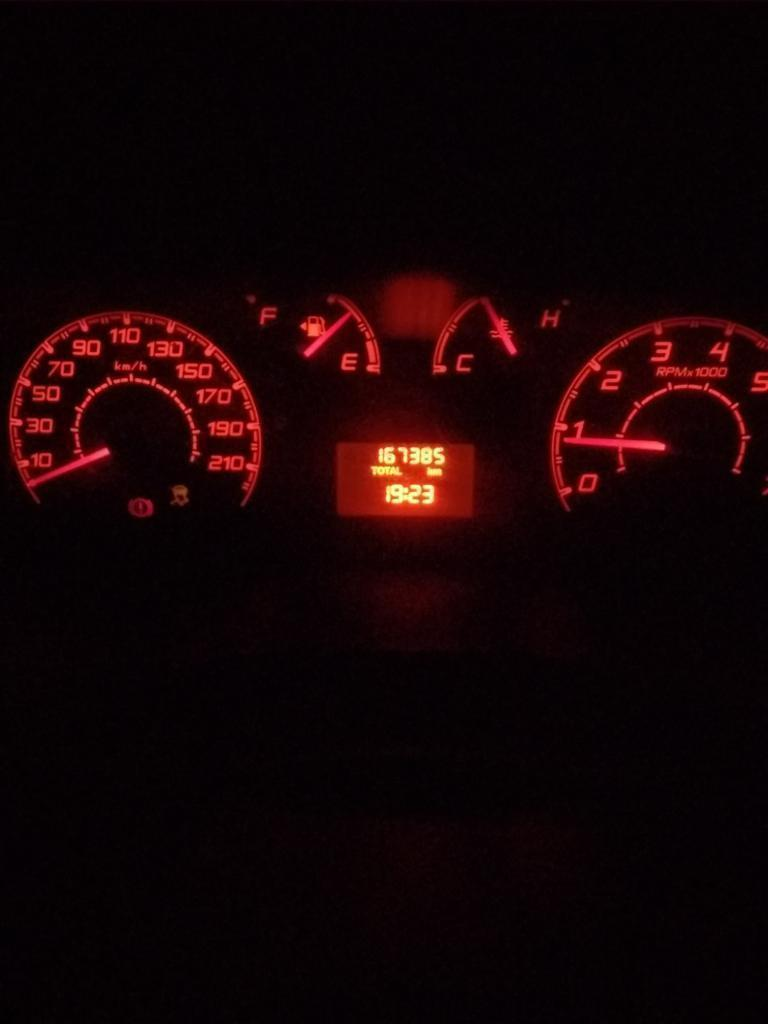1: (385, 483, 390, 505), (377, 446, 383, 463)
2: (408, 483, 421, 504)
3: (422, 483, 434, 504), (409, 446, 420, 464)
5: (432, 446, 445, 464)
6: (383, 445, 395, 464)
7: (397, 446, 407, 464)
8: (420, 445, 432, 465)
9: (390, 483, 403, 504)
X: (377, 465, 384, 476), (433, 468, 442, 476), (403, 486, 408, 500), (426, 466, 433, 476), (396, 465, 403, 475), (370, 465, 376, 476), (390, 465, 396, 475), (384, 465, 390, 475)
odometer: (331, 436, 482, 523)
